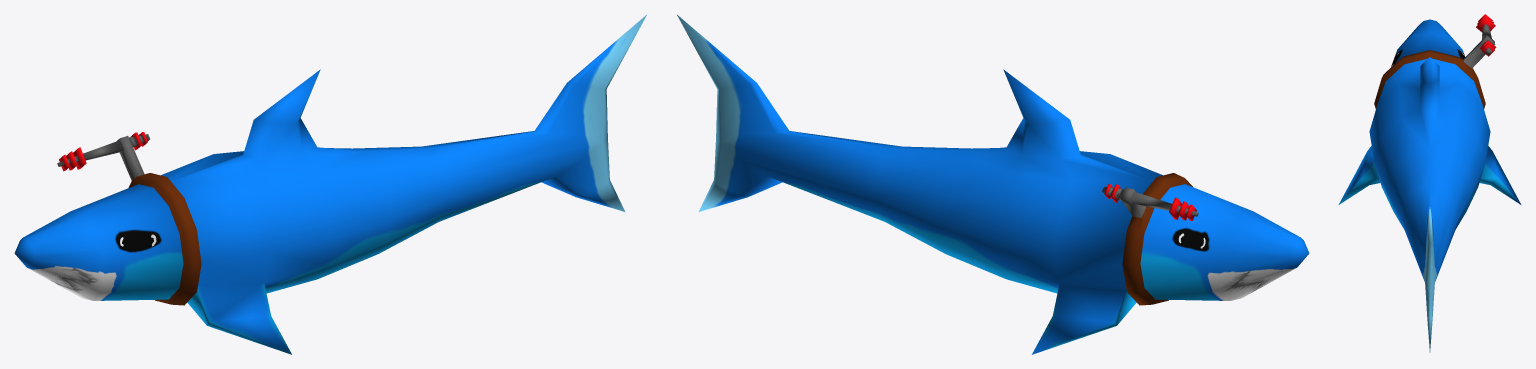
File: shark.obj
3 renders of one model, left to right at view 1: azimuth 30°, elevation 25°; view 2: azimuth 150°, elevation 25°; view 3: azimuth 270°, elevation 25°, orthographic. The views are drawn at different scales.
Visible parts, largest first — view 1: Cylinder; view 2: Cylinder; view 3: Cylinder.
Boxes of the visible parts, x1,y1,x2,y2 form: Cylinder: (14, 15, 646, 354); Cylinder: (677, 15, 1309, 354); Cylinder: (1338, 14, 1521, 352).
Bounding box in the file's own units: 4.65 × 1.57 × 1.43.
Materials: 1 (1 with a texture image).
